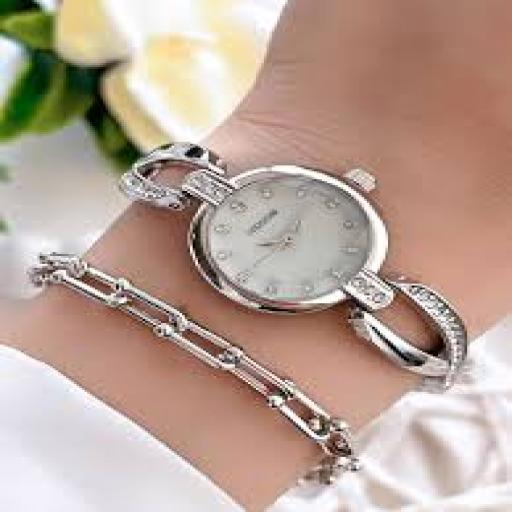KolSaati: (94, 82, 500, 394)
